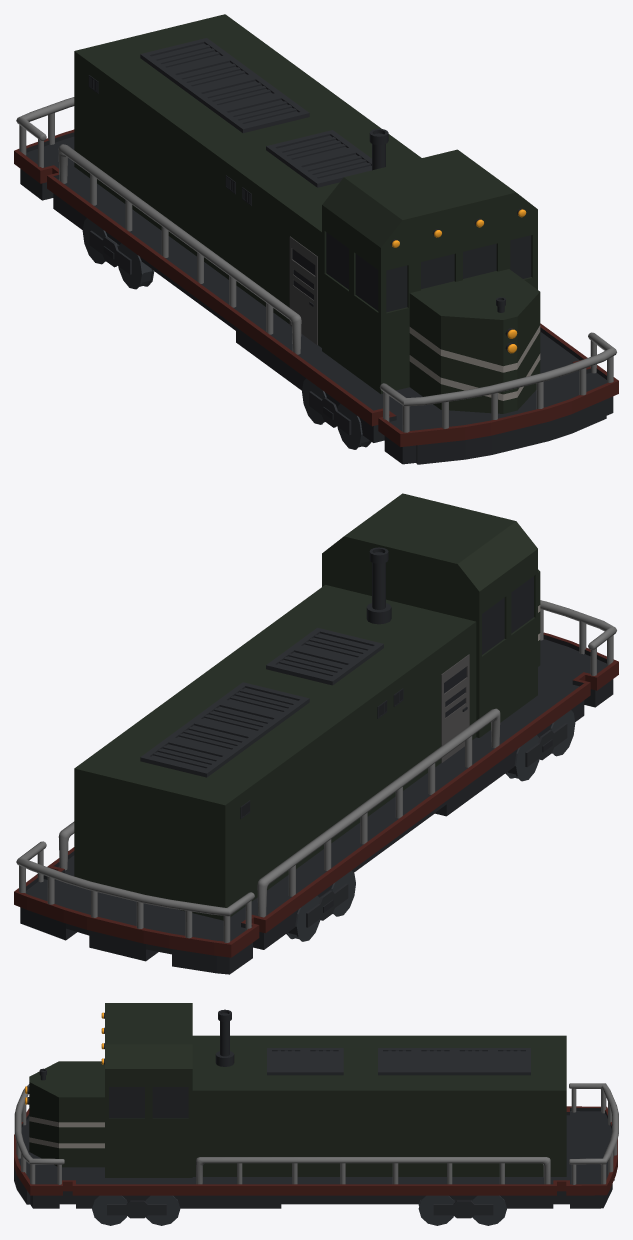
The model's file is Train_2.fbx.
The picture shows the model from 3 angles, top to bottom: view 1: azimuth 30°, elevation 25°; view 2: azimuth 150°, elevation 25°; view 3: azimuth 270°, elevation 25°; orthographic projection. The views are drawn at different scales.
Parts seen in each view (by area): view 1: Train_2; view 2: Train_2; view 3: Train_2.
Part boxes in pixels (x1=…): Train_2: x1=14, y1=14, x2=618, y2=464; Train_2: x1=14, y1=493, x2=618, y2=974; Train_2: x1=14, y1=1003, x2=618, y2=1225.
Bounding box in the file's own units: 227 × 229 × 721.
